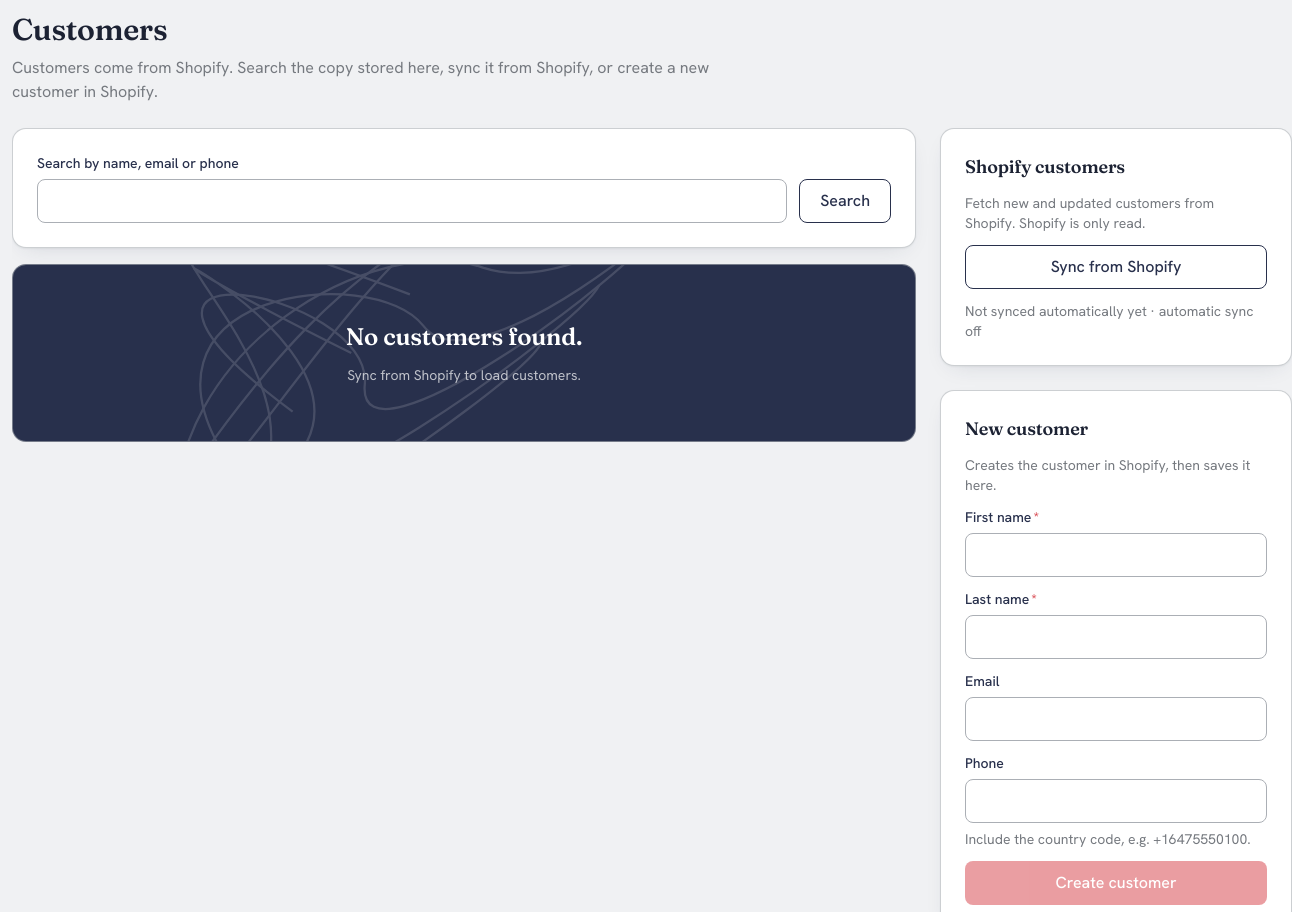
it: CustomersPage search › shows an empty state with a sync hint, and a plain one for a search
expect the heading "No customers found." is shown: met, box [346,321,582,353]
expect the text "Sync from Shopify to load customers." is shown: met, box [347,365,581,385]
Type "zzz" into the search field at (412, 201), box [37,179,787,223]
Then press Enter
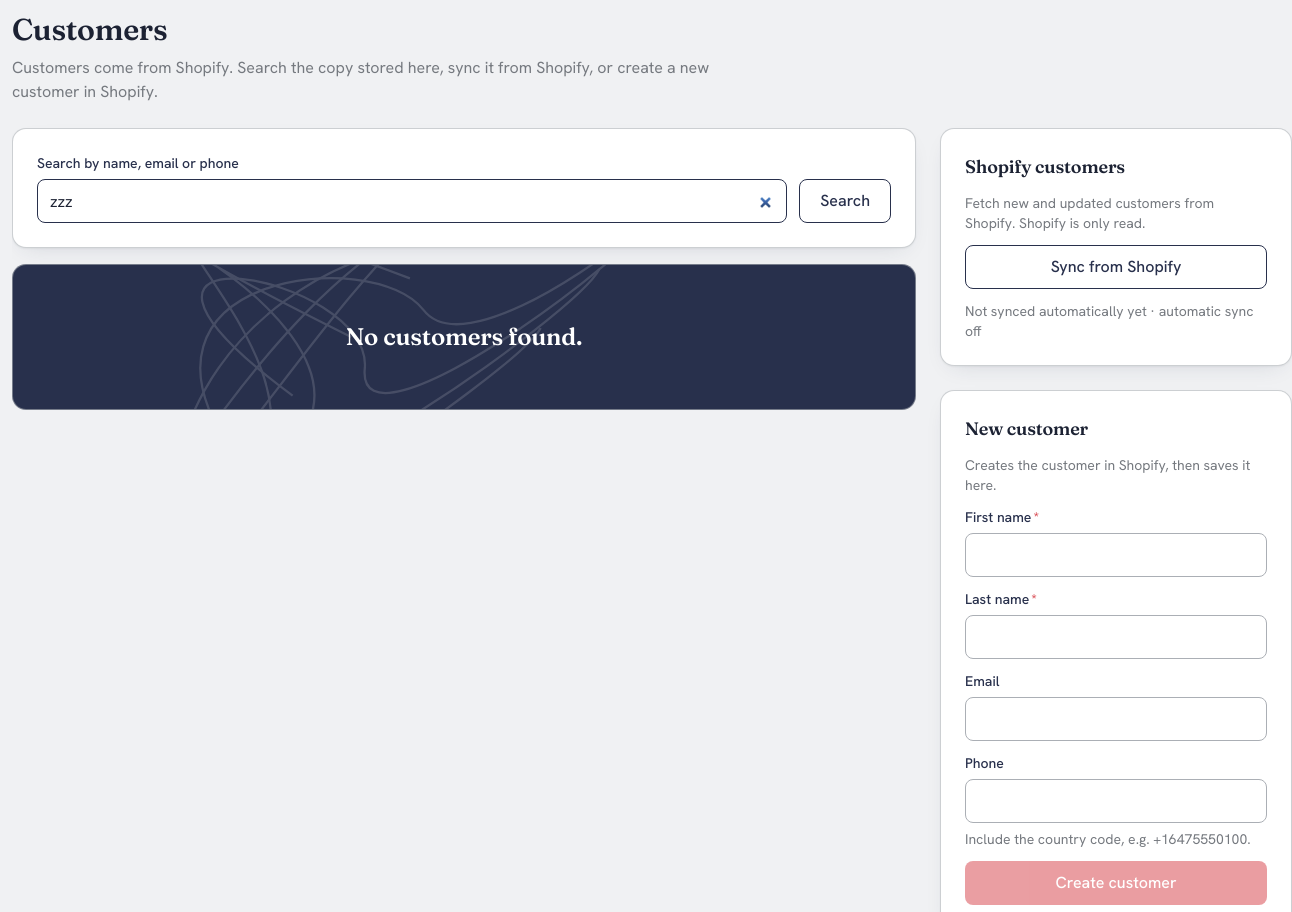
expect the heading "No customers found." is shown: met, box [346,321,582,353]
expect the text "Sync from Shopify to load customers." is gone: met
